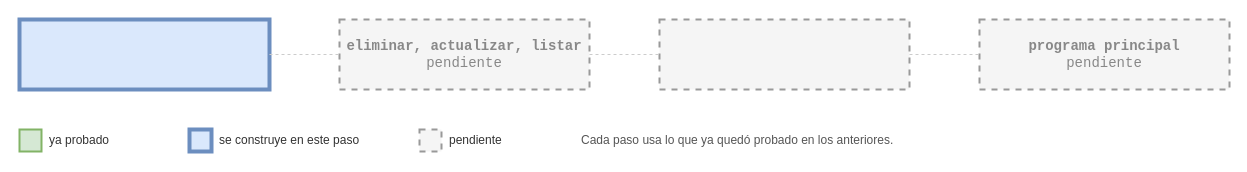
Some shapes in this 1247 by 172 pixel diagram are drawn without their labels. Here are the shapes that lost their labels. From the top down, the centre of each, then its label:
At point (144, 54): "buscar y agregar buscar_id, agregar_estudiante".
At point (784, 54): "ordenar pendiente".
